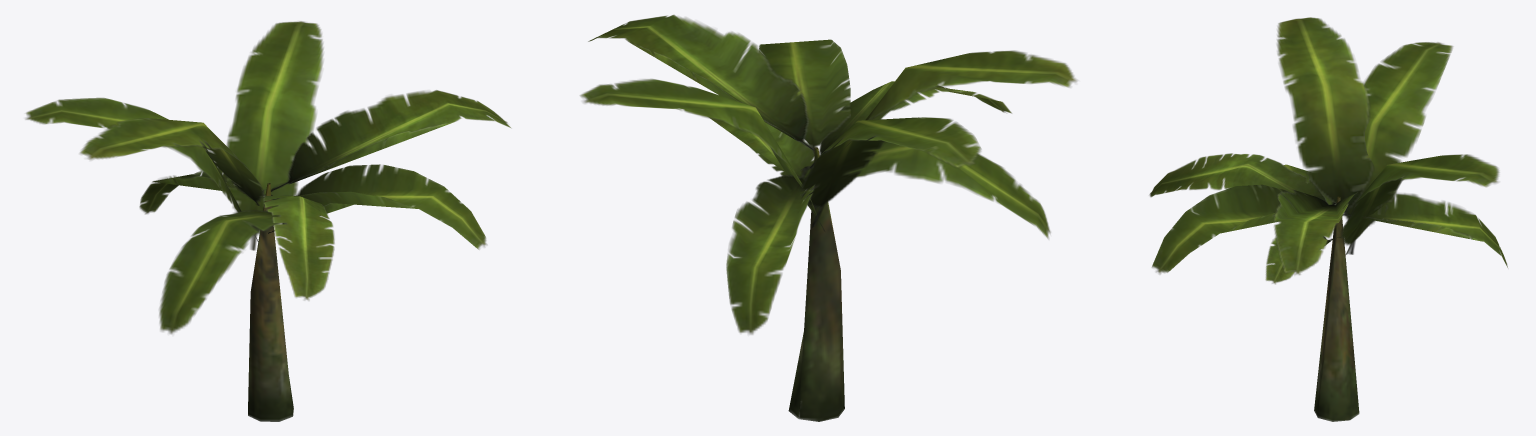
The model's file is treeV3.glb.
3 renders of one model, left to right at view 1: azimuth 30°, elevation 25°; view 2: azimuth 150°, elevation 25°; view 3: azimuth 270°, elevation 25°, orthographic. The views are drawn at different scales.
Parts seen in each view (by area): view 1: Bnn tree small 1_banana tree_0; view 2: Bnn tree small 1_banana tree_0; view 3: Bnn tree small 1_banana tree_0.
Part boxes in pixels (bbox=[...]): Bnn tree small 1_banana tree_0: bbox=[25, 21, 511, 421]; Bnn tree small 1_banana tree_0: bbox=[580, 15, 1077, 421]; Bnn tree small 1_banana tree_0: bbox=[1149, 17, 1507, 421].
Bounding box in the file's own units: 97.52 × 66.22 × 75.09.
Materials: 1 (1 with a texture image).
